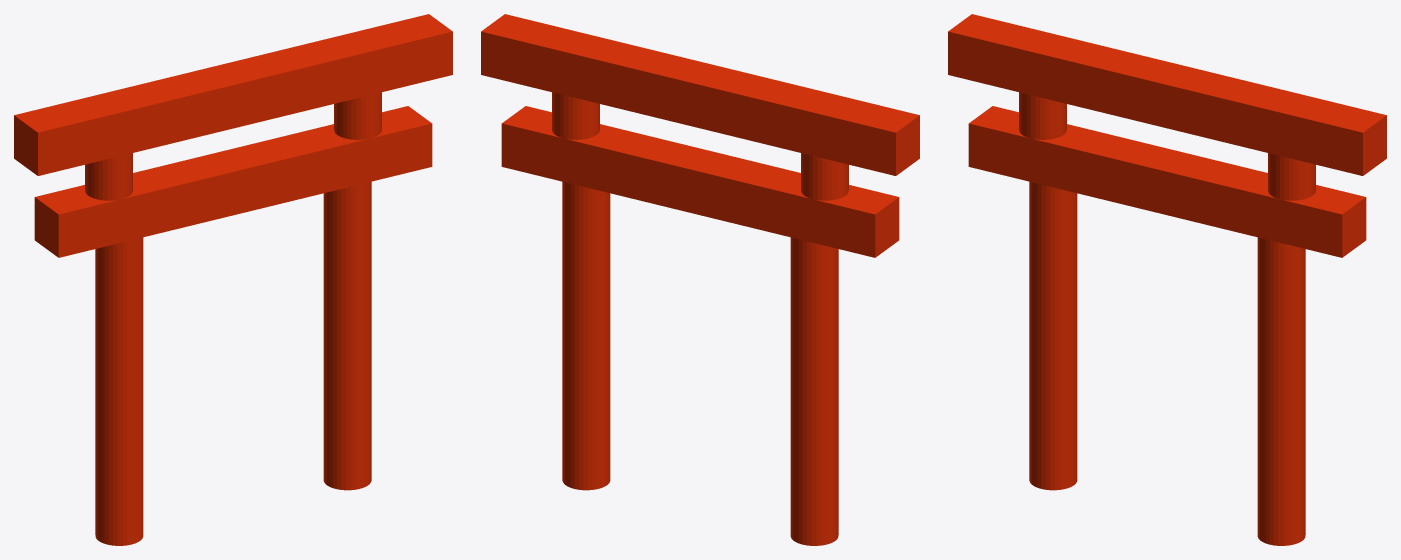
The model's file is AkaiTorii.glb.
3 views of the same model, side by side, from view 1: azimuth 30°, elevation 25°; view 2: azimuth 150°, elevation 25°; view 3: azimuth 330°, elevation 25° (orthographic).
Parts seen in each view (by area): view 1: HariUe, HariShita, HashiraHidari, HashiraMigi, HokyouHidari, HokyouMigi; view 2: HariUe, HariShita, HashiraHidari, HashiraMigi, HokyouHidari, HokyouMigi; view 3: HariUe, HariShita, HashiraMigi, HashiraHidari, HokyouMigi, HokyouHidari.
Boxes of the visible parts, x1,y1,x2,y2 form: HariUe: [14, 14, 452, 175]; HariShita: [34, 106, 432, 257]; HashiraHidari: [95, 237, 143, 545]; HashiraMigi: [323, 181, 371, 490]; HokyouHidari: [85, 153, 132, 200]; HokyouMigi: [334, 92, 381, 139]; HariUe: [481, 14, 919, 175]; HariShita: [501, 106, 899, 257]; HashiraHidari: [790, 237, 838, 545]; HashiraMigi: [562, 181, 610, 490]; HokyouHidari: [801, 153, 848, 200]; HokyouMigi: [552, 92, 599, 139]; HariUe: [948, 14, 1386, 175]; HariShita: [968, 106, 1366, 257]; HashiraMigi: [1257, 237, 1305, 545]; HashiraHidari: [1029, 181, 1077, 490]; HokyouMigi: [1268, 153, 1315, 200]; HokyouHidari: [1019, 92, 1066, 139].
Size of the model in its own units: 20 by 20.02 by 2.
